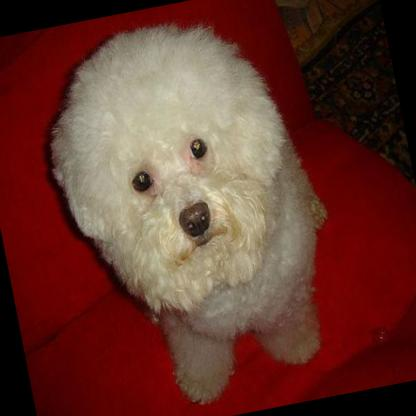toy_poodle: (24, 0, 356, 416)
